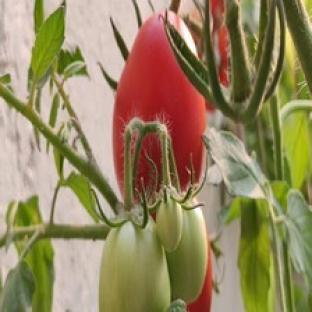Tomato: (113, 14, 206, 192), (99, 219, 169, 311), (166, 208, 207, 303), (187, 241, 213, 311), (156, 197, 182, 252)
